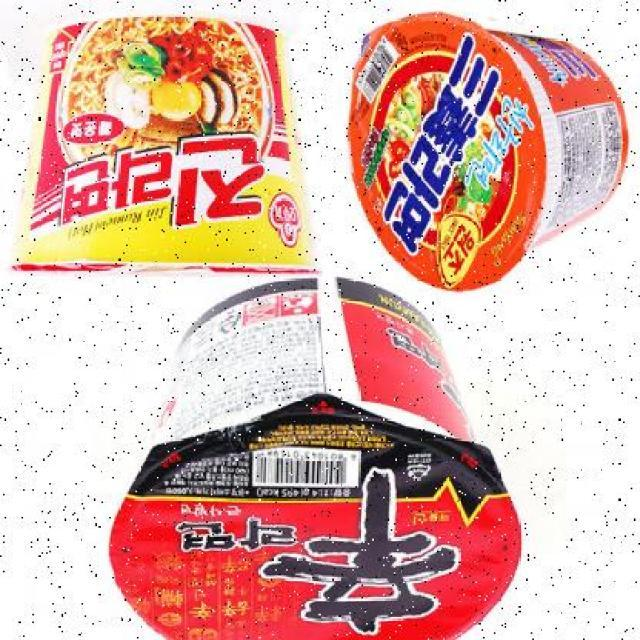Miscellaneous: (106, 275, 528, 640), (0, 5, 326, 290), (334, 12, 640, 292)
